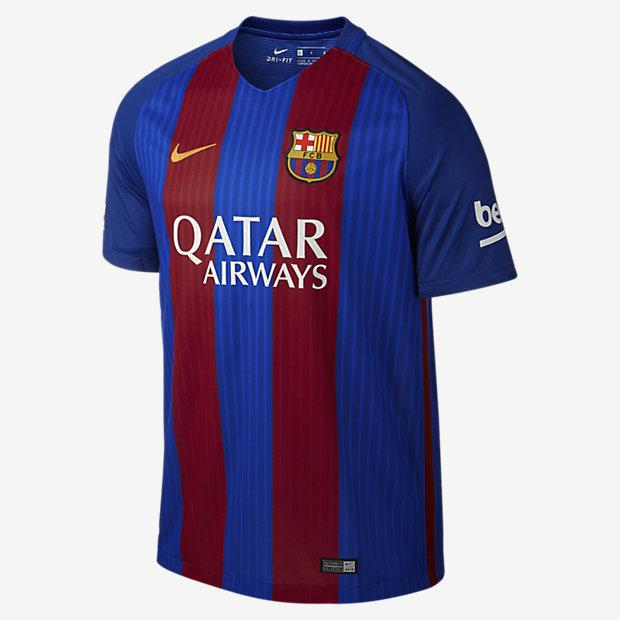teeshirt: (87, 11, 549, 605)
